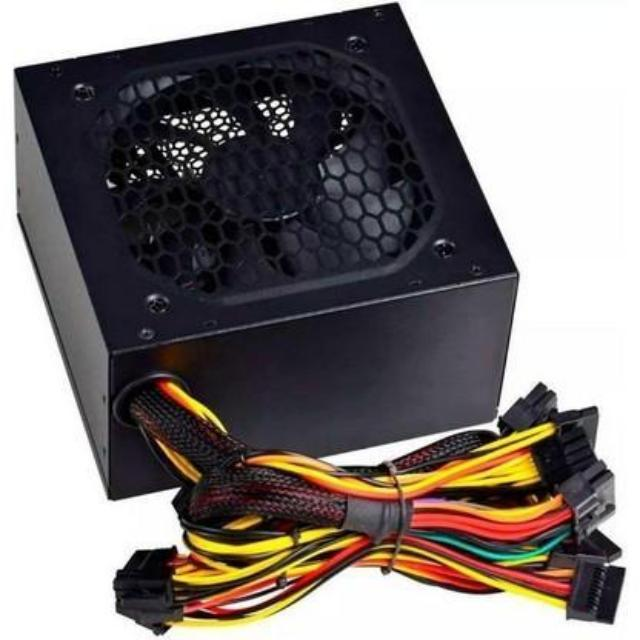PSU: (0, 0, 525, 518)
